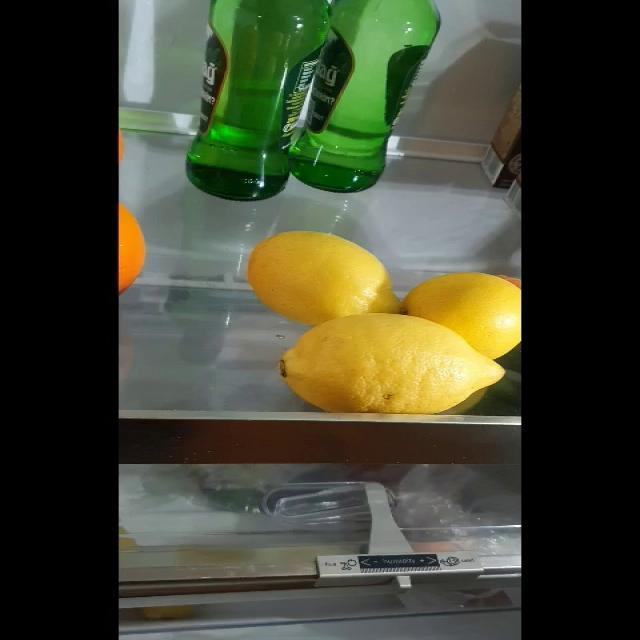lemon: (283, 324, 502, 416), (252, 230, 389, 322), (403, 278, 524, 356)
mineral water: (296, 2, 444, 186), (206, 4, 326, 202)
